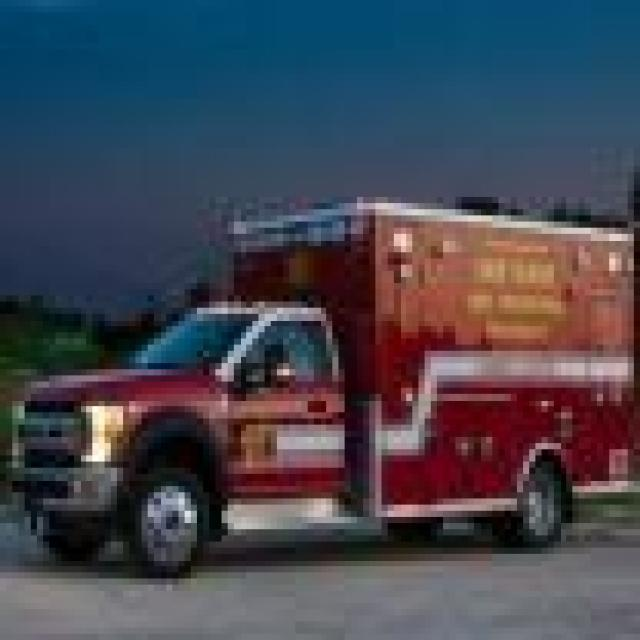emergency-vehicle: (3, 169, 637, 588)
